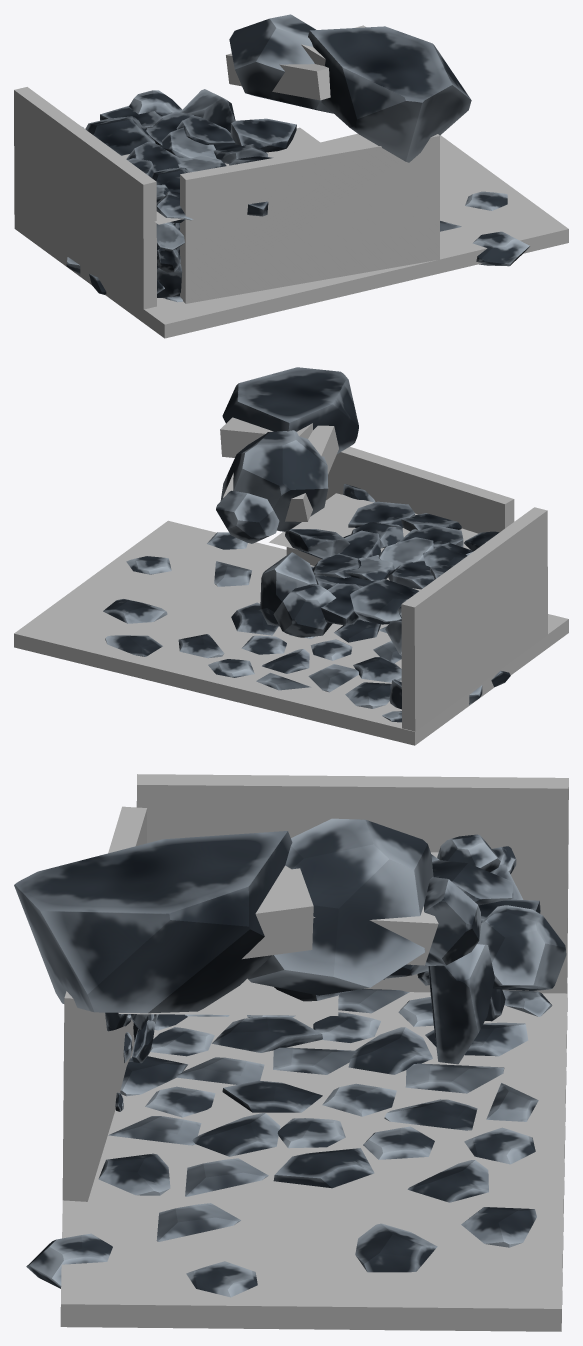
File: Cave1.fbx
3 renders of one model, top to bottom at view 1: azimuth 30°, elevation 25°; view 2: azimuth 150°, elevation 25°; view 3: azimuth 270°, elevation 25°, orthographic. The views are drawn at different scales.
Parts seen in each view (by area): view 1: Cube__5_, Cube__4_, floor__1_, Pedra2Caverna.040, Pedra4__1_.048, Cube__1_, Pedra2Caverna.038, Pedra4__1_.041, Pedra4__1_.006, Pedra2Caverna.047, Pedra2Caverna.039, Pedra1__2_.012 (+13 smaller); view 2: floor__1_, Cube__4_, Cube__5_, Pedra2Caverna.040, Pedra4__1_.048, Pedra4__1_.049, Pedra4__1_.016, Pedra2Caverna.047, Pedra4__1_.041, Plane, Cube__1_, Pedra2Caverna.038 (+29 smaller); view 3: floor__1_, Pedra2Caverna.040, Cube__4_, Pedra4__1_.048, Cube__5_, Pedra4__1_.016, Pedra2Caverna.047, Cube, Pedra4__1_.049, Plane, Pedra2Caverna.008, Pedra2Caverna.007 (+32 smaller).
Part boxes in pixels (left/top/right/bottom): Cube__5_: left=180, top=134, right=439, bottom=303; Cube__4_: left=14, top=87, right=156, bottom=309; floor__1_: left=14, top=133, right=568, bottom=338; Pedra2Caverna.040: left=308, top=26, right=471, bottom=162; Pedra4__1_.048: left=229, top=14, right=333, bottom=113; Cube__1_: left=226, top=53, right=330, bottom=100; Pedra2Caverna.038: left=230, top=118, right=296, bottom=152; Pedra4__1_.041: left=85, top=116, right=155, bottom=155; Pedra4__1_.006: left=472, top=231, right=529, bottom=266; Pedra2Caverna.047: left=180, top=89, right=235, bottom=132; Pedra2Caverna.039: left=176, top=115, right=235, bottom=147; Pedra1__2_.012: left=158, top=127, right=216, bottom=158; floor__1_: left=14, top=520, right=568, bottom=745; Cube__4_: left=401, top=507, right=547, bottom=731; Cube__5_: left=286, top=446, right=514, bottom=566; Pedra2Caverna.040: left=222, top=367, right=358, bottom=453; Pedra4__1_.048: left=220, top=430, right=328, bottom=531; Pedra4__1_.049: left=216, top=490, right=279, bottom=543; Pedra4__1_.016: left=273, top=583, right=335, bottom=637; Pedra2Caverna.047: left=260, top=552, right=316, bottom=626; Pedra4__1_.041: left=350, top=579, right=418, bottom=624; Plane: left=269, top=493, right=477, bottom=551; Cube__1_: left=223, top=425, right=338, bottom=521; Pedra2Caverna.038: left=285, top=529, right=349, bottom=559; floor__1_: left=60, top=983, right=567, bottom=1331; Pedra2Caverna.040: left=14, top=831, right=292, bottom=1013; Cube__4_: left=136, top=774, right=568, bottom=993; Pedra4__1_.048: left=248, top=818, right=433, bottom=995; Cube__5_: left=62, top=806, right=147, bottom=1201; Pedra4__1_.016: left=478, top=905, right=566, bottom=990; Pedra2Caverna.047: left=428, top=943, right=494, bottom=1064; Cube: left=242, top=865, right=313, bottom=959; Pedra4__1_.049: left=424, top=877, right=481, bottom=965; Plane: left=118, top=978, right=338, bottom=1015; Pedra2Caverna.008: left=355, top=1223, right=437, bottom=1272; Pedra2Caverna.007: left=273, top=1148, right=374, bottom=1188.
Bounding box in the file's own units: 1386 × 707 × 989.
